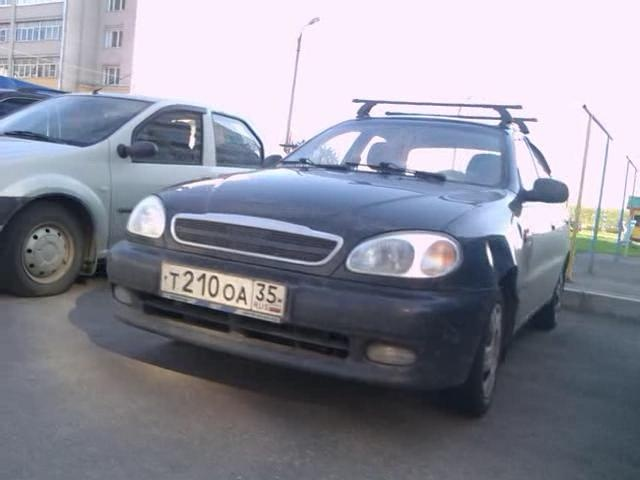car license plate: (156, 257, 293, 330)
